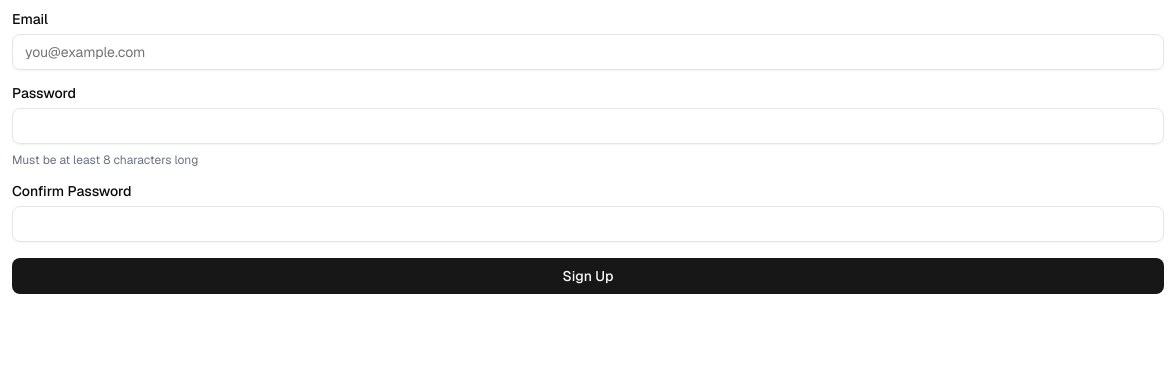
Scenario: SignUpForm - error handling › shows fallback error when no error message provided
This screenshot has width=1176, height=365.
Type "pass1234" into the password field labelled "Password".
click(588, 126); type("pass1234")  # box [12,108,1164,144]
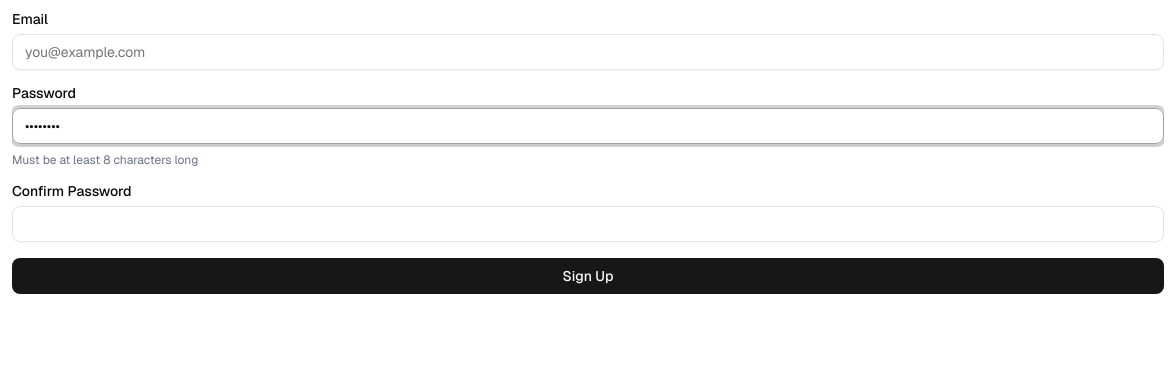
Type "pass1234" into the password field labelled "Confirm Password".
click(588, 224); type("pass1234")  # box [12,206,1164,242]
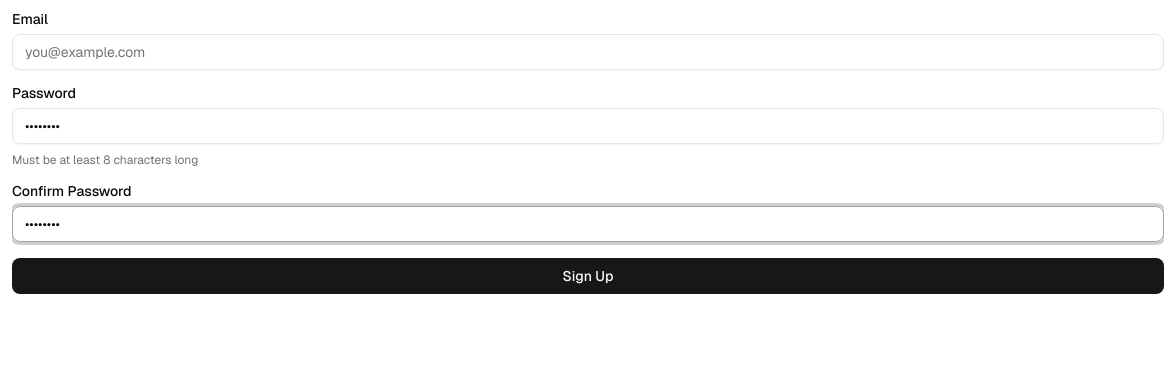
Submit the form "Sign Up"
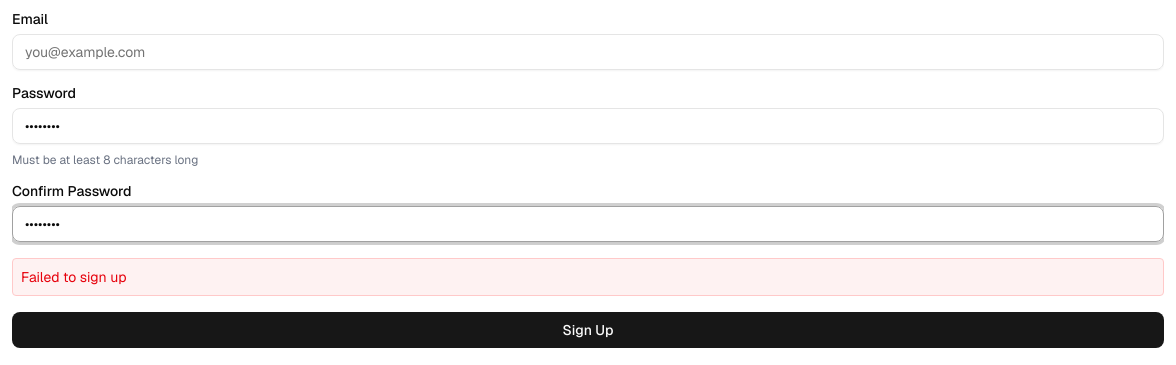
Expected: the text "Failed to sign up" is shown, [12,258,1164,296]
